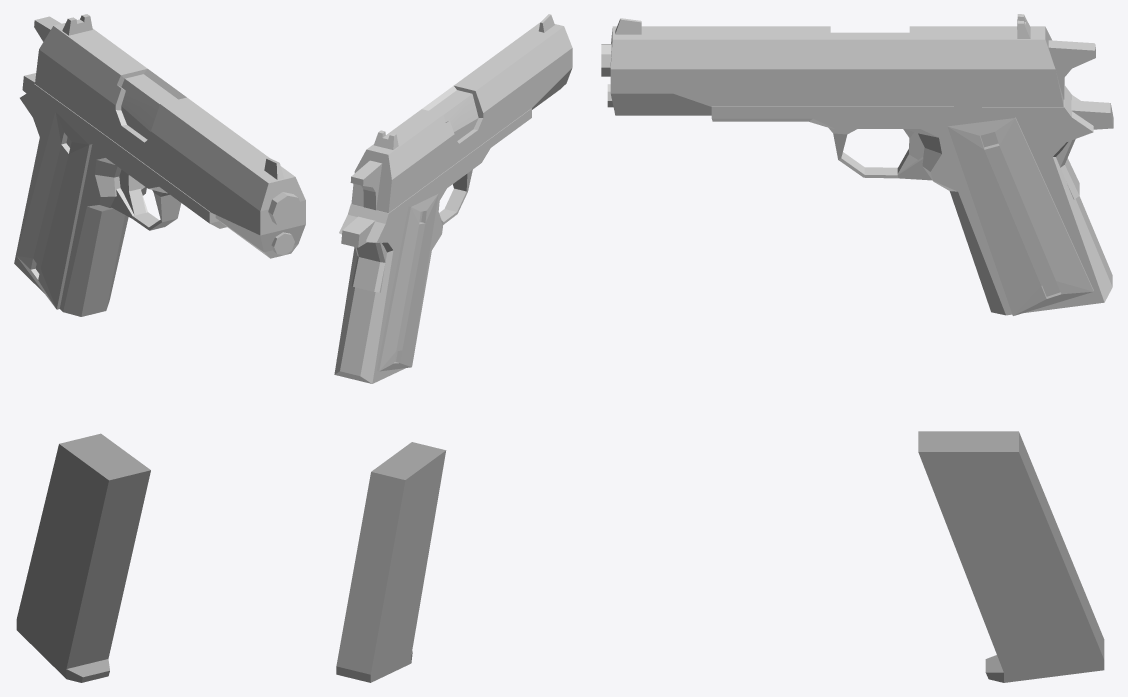
The model's file is 1911_Gun.glb.
3 renders of one model, left to right at view 1: azimuth 30°, elevation 25°; view 2: azimuth 150°, elevation 25°; view 3: azimuth 270°, elevation 25°, orthographic. The views are drawn at different scales.
Visible parts, largest first — view 1: 1911LowPoly, 1911BetterMag; view 2: 1911LowPoly, 1911BetterMag; view 3: 1911LowPoly, 1911BetterMag.
Part boxes in pixels (x1,y1,x2,y2): 1911LowPoly: (14,14,305,316); 1911BetterMag: (16,433,150,682); 1911LowPoly: (334,14,572,383); 1911BetterMag: (336,442,446,682); 1911LowPoly: (601,14,1113,315); 1911BetterMag: (918,431,1104,682).
Bounding box in the file's own units: 0.044 × 0.4821 × 0.3423.
Materials: 2 (1 with a texture image).
